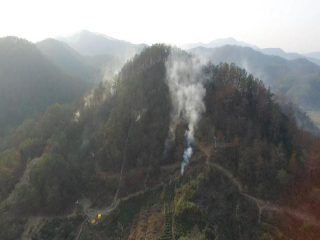smoke: (159, 47, 216, 181)
